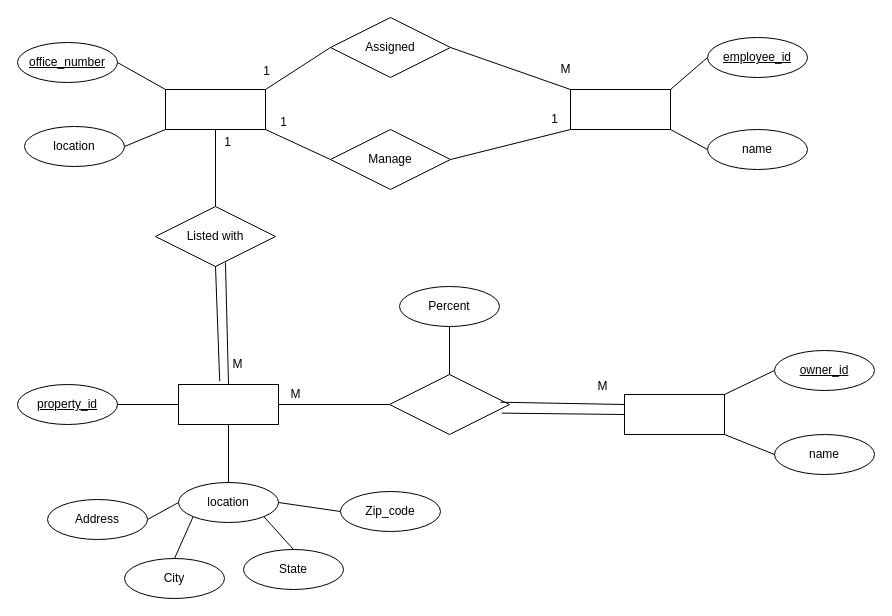
The diagram is 892 pixels wide and 616 high, and some of its shapes have lost their labels. The box of each missing label's shape, as (x1, y1, x2, y2) in pixels:
Employee: (570, 88, 670, 130)
Own: (388, 374, 510, 434)
Owner: (624, 394, 724, 434)
Property: (178, 384, 278, 424)
Sales Office: (164, 88, 266, 130)
